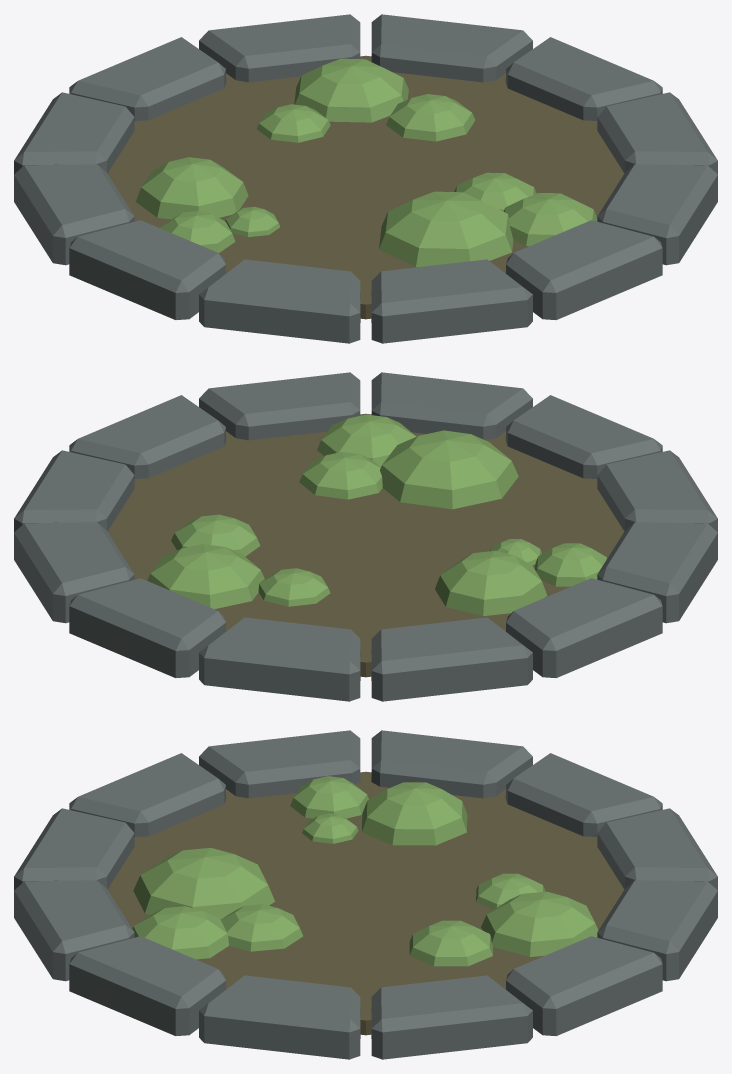
The model's file is SM_parterre_arbre.fbx.
3 views of the same model, one above another, from view 1: azimuth 30°, elevation 25°; view 2: azimuth 150°, elevation 25°; view 3: azimuth 270°, elevation 25° (orthographic).
Visible parts, largest first — view 1: SM_parterre_arbre; view 2: SM_parterre_arbre; view 3: SM_parterre_arbre.
Boxes of the visible parts, bbox=[...] form: SM_parterre_arbre: bbox=[14, 14, 717, 343]; SM_parterre_arbre: bbox=[14, 372, 717, 701]; SM_parterre_arbre: bbox=[14, 730, 717, 1059].
Size of the model in its own units: 258 by 21.67 by 258.
